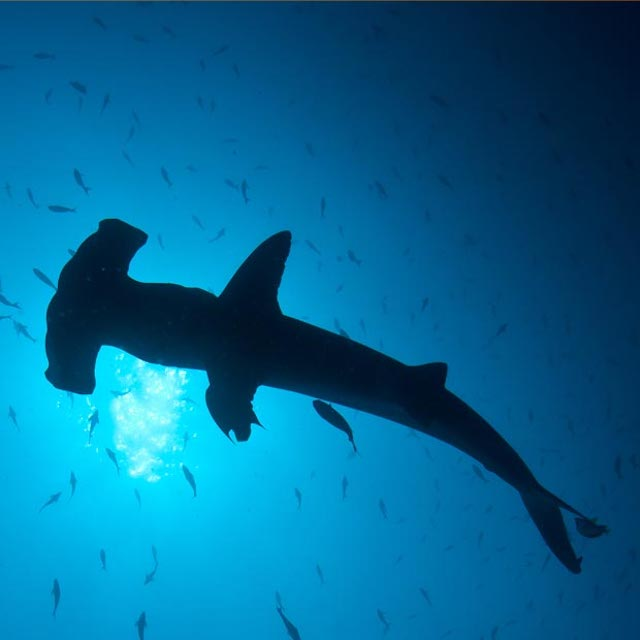hammerhead: (21, 209, 279, 424)
